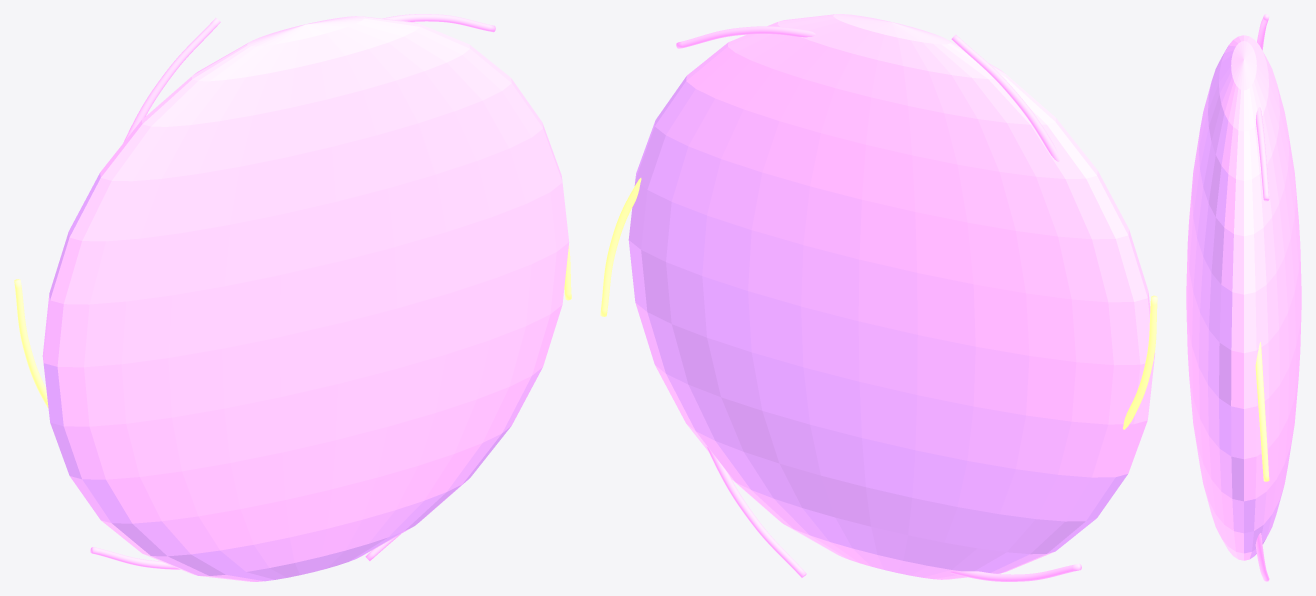
File: VFX_06_七娃_宝葫芦紫金旋涡.glb
3 views of the same model, side by side, from view 1: azimuth 30°, elevation 25°; view 2: azimuth 150°, elevation 25°; view 3: azimuth 270°, elevation 25° (orthographic). The views are drawn at different scales.
Visible parts, largest first — view 1: Sphere.001, SpiralArm_5, SpiralArm_0, SpiralArm_4; view 2: Sphere.001, SpiralArm_5, SpiralArm_2, SpiralArm_4, SpiralArm_3, SpiralArm_0, SpiralArm_1; view 3: Sphere.001, SpiralArm_3, SpiralArm_4, SpiralArm_2, SpiralArm_5.
Boxes of the visible parts, x1,y1,x2,y2 form: Sphere.001: [42, 16, 569, 581]; SpiralArm_5: [123, 18, 220, 142]; SpiralArm_0: [14, 279, 48, 408]; SpiralArm_4: [383, 14, 495, 32]; Sphere.001: [628, 14, 1155, 579]; SpiralArm_5: [951, 34, 1059, 161]; SpiralArm_2: [706, 446, 806, 577]; SpiralArm_4: [676, 26, 815, 48]; SpiralArm_3: [600, 178, 641, 316]; SpiralArm_0: [1123, 295, 1157, 429]; SpiralArm_1: [949, 563, 1081, 581]; Sphere.001: [1186, 35, 1301, 560]; SpiralArm_3: [1255, 342, 1269, 481]; SpiralArm_4: [1256, 107, 1269, 201]; SpiralArm_2: [1255, 533, 1269, 581]; SpiralArm_5: [1257, 14, 1269, 50].
Size of the model in its own units: 3.71 by 3.7 by 0.77.
